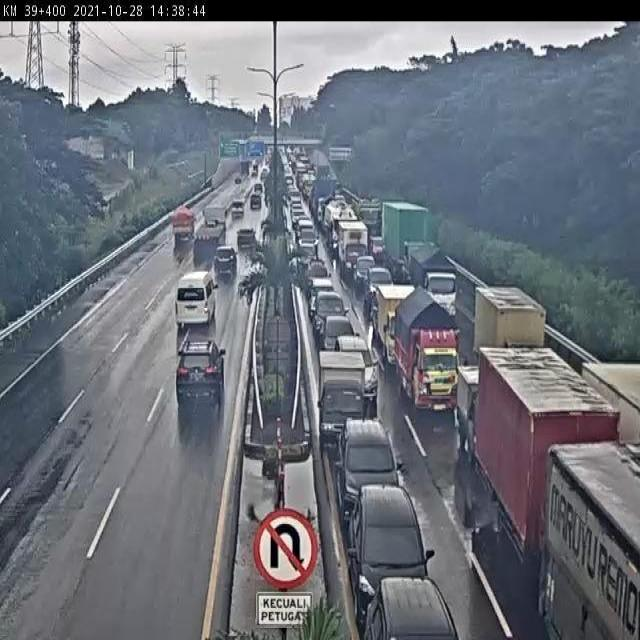ARABA: (349, 486, 436, 618), (335, 418, 399, 530), (363, 577, 460, 640), (174, 340, 228, 412), (335, 336, 380, 403), (174, 269, 216, 328), (319, 315, 360, 369), (312, 290, 350, 342), (367, 265, 395, 308), (309, 276, 334, 316), (213, 244, 239, 281), (355, 255, 376, 288), (235, 225, 257, 252), (229, 202, 244, 222)
KAMYONET: (393, 287, 462, 416), (475, 285, 545, 395), (458, 365, 521, 468), (317, 348, 369, 449), (377, 283, 420, 369), (380, 201, 426, 280), (409, 238, 451, 318), (339, 220, 369, 276), (171, 204, 195, 244)
TIR: (479, 345, 626, 595), (192, 204, 232, 257)
